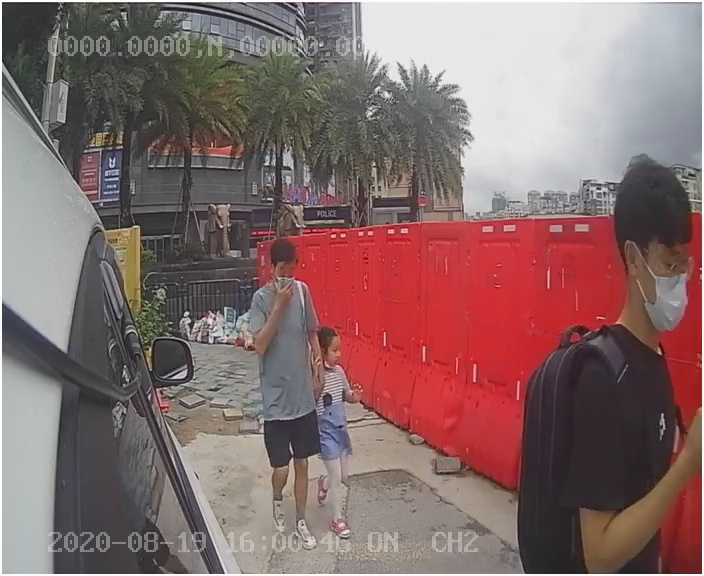person: (240, 234, 334, 524)
